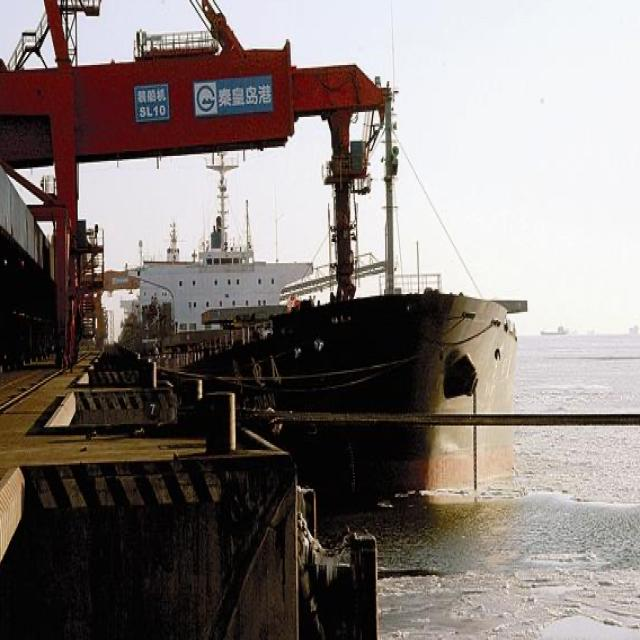cargoship: (159, 202, 503, 508)
